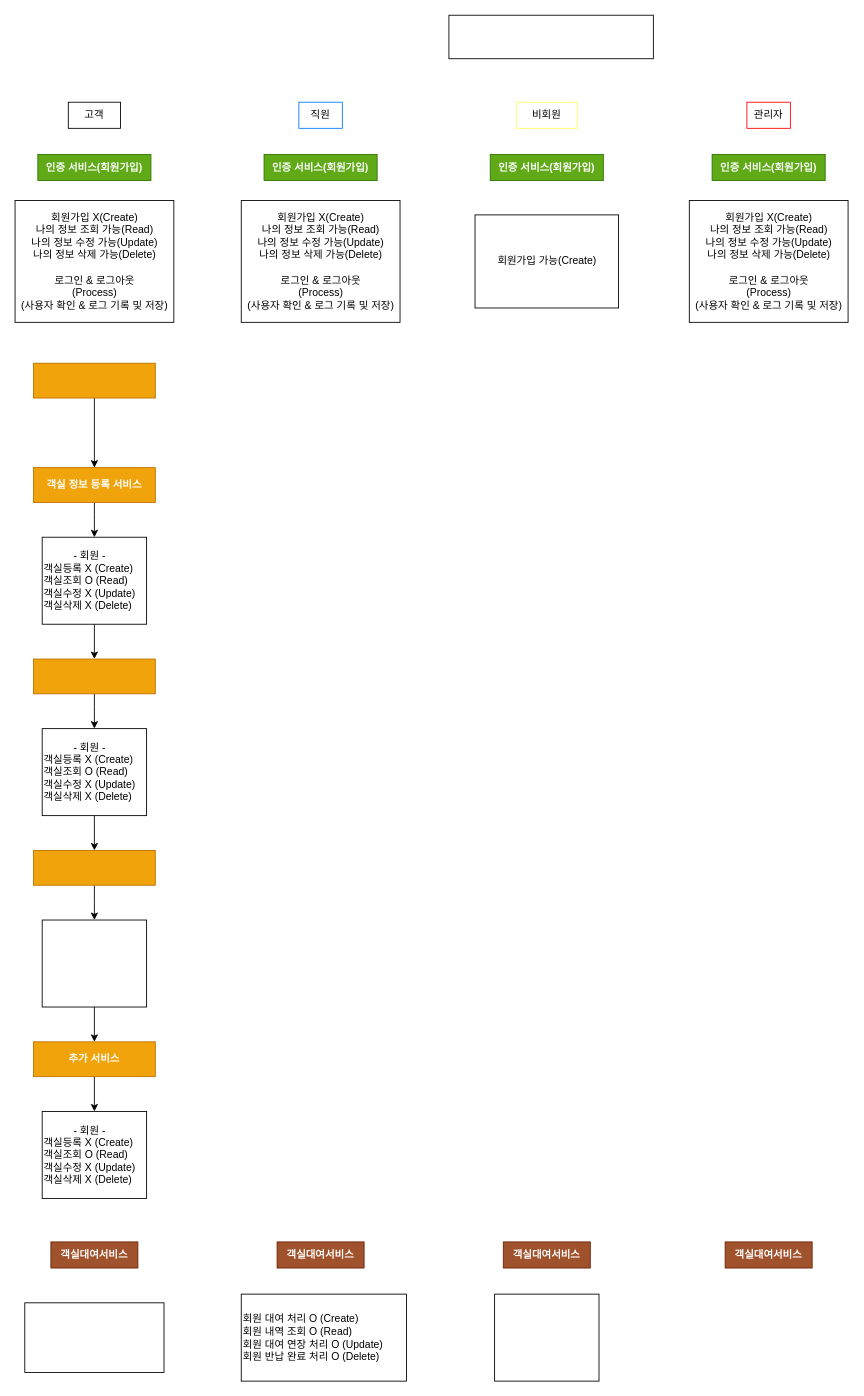
The diagram is 864 pixels wide and 1396 high, and some of its shapes have lost their labels. The box of each missing label's shape, as (x1, y1, x2, y2) in pixels:
- 비회원 - 객실등록 X (Create) 객실조회 O (Read) 객실수정 X (Update) 객실삭제 X (Delete): (494, 1293, 599, 1381)
- 회원 -: (41, 919, 147, 1007)
나의 내역 조회 O (Read) 나의 대여 기간 내역 수정 O (Update) - 대여 연장 처리: (24, 1302, 164, 1372)
서비스: (33, 362, 155, 398)
식사 서비스: (33, 850, 155, 885)
주차 서비스: (33, 658, 155, 694)
호텔 서비스 프로그램: (448, 14, 653, 59)
